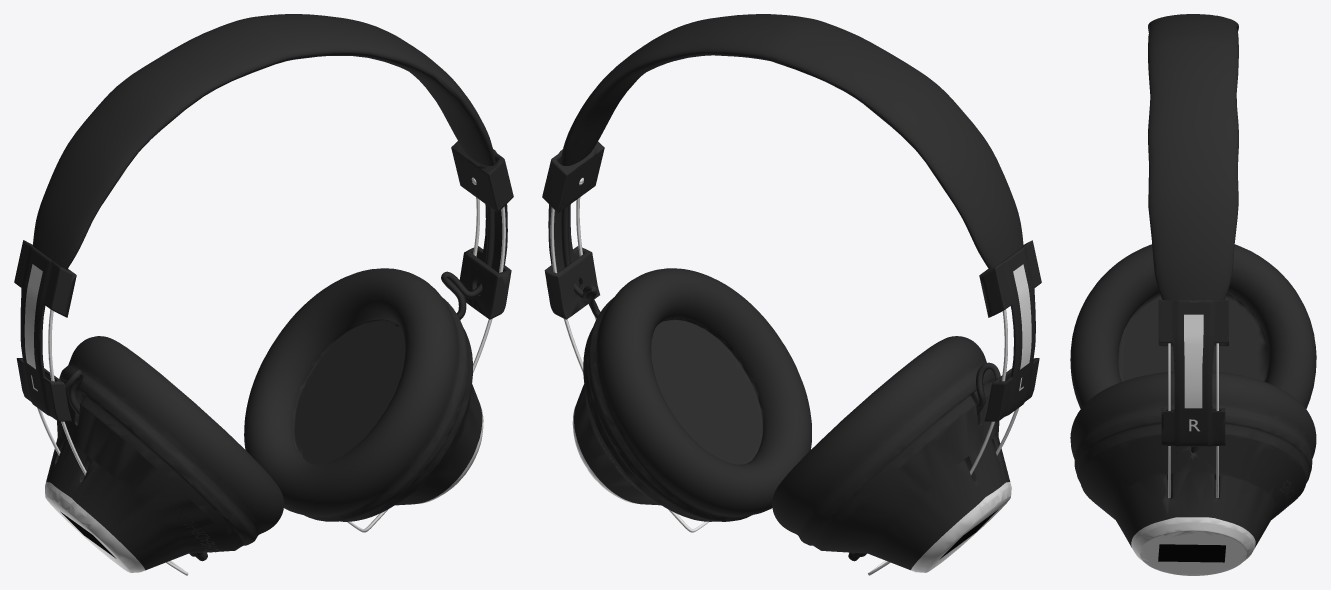
3 views of the same model, side by side, from view 1: azimuth 30°, elevation 25°; view 2: azimuth 150°, elevation 25°; view 3: azimuth 270°, elevation 25° (orthographic). The views are drawn at different scales.
Parts seen in each view (by area): view 1: Object_5, Object_26; view 2: Object_5, Object_26; view 3: Object_5, Object_32, Object_26.
Boxes of the visible parts, x1=… form: Object_5: x1=14, y1=14, x2=513, y2=572; Object_26: x1=37, y1=197, x2=505, y2=575; Object_5: x1=542, y1=14, x2=1041, y2=572; Object_26: x1=550, y1=197, x2=1018, y2=575; Object_5: x1=1070, y1=14, x2=1316, y2=575; Object_32: x1=1158, y1=544, x2=1225, y2=562; Object_26: x1=1168, y1=343, x2=1218, y2=497.
Size of the model in its own units: 2.05 by 2.17 by 0.9943.
Materials: 3 (2 with a texture image).
